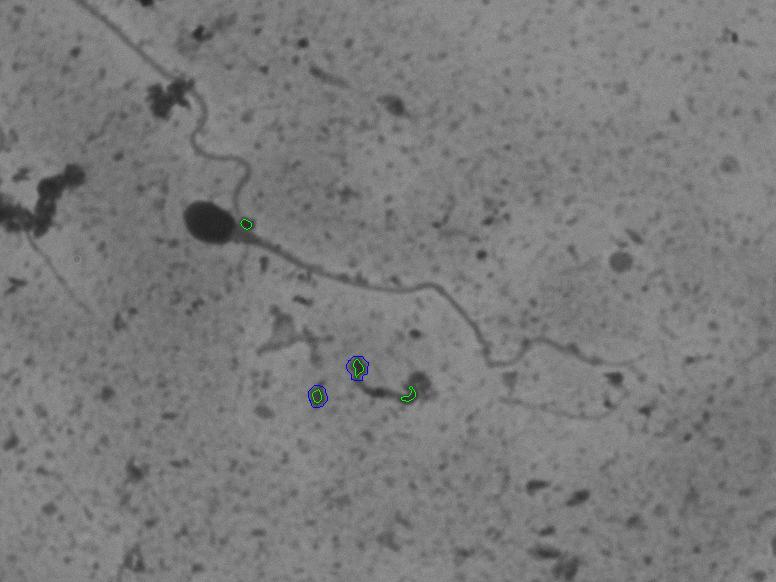Normal: (160, 185, 604, 375)
